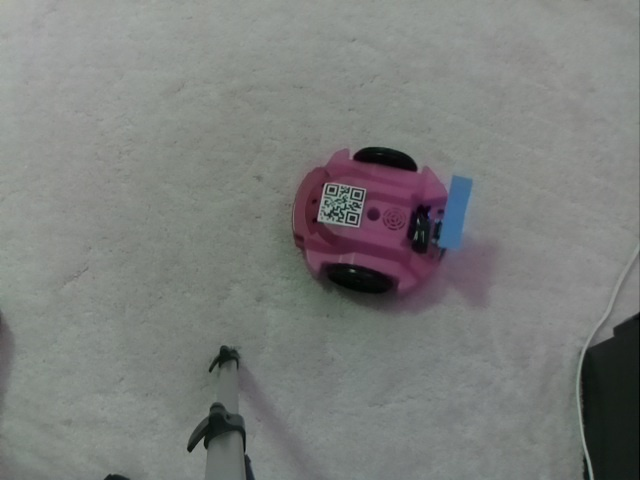chassis: (288, 142, 472, 301)
qr: (308, 173, 373, 233)
